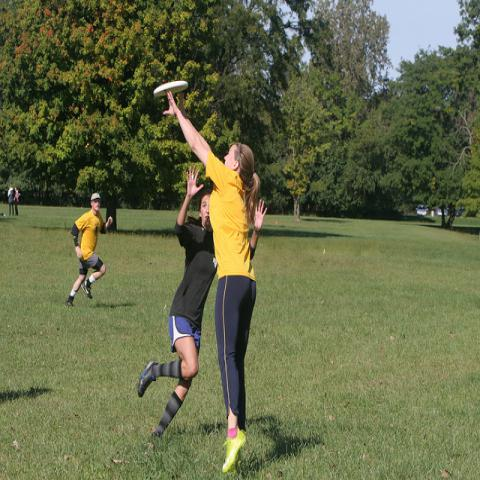car: (417, 206, 426, 214), (455, 209, 462, 217), (436, 206, 442, 215)
